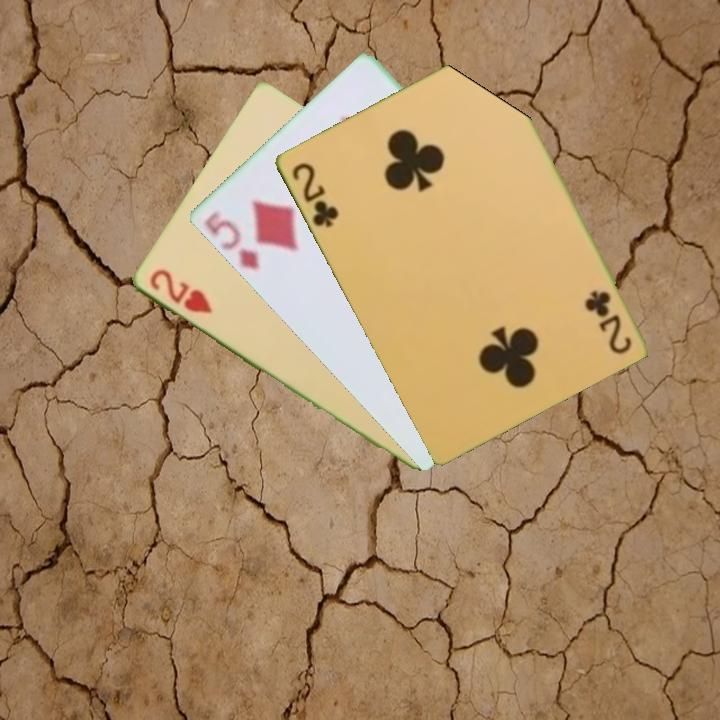2c: (287, 159, 341, 231), (583, 286, 634, 357)
2h: (145, 265, 215, 317)
5d: (200, 212, 263, 273)
